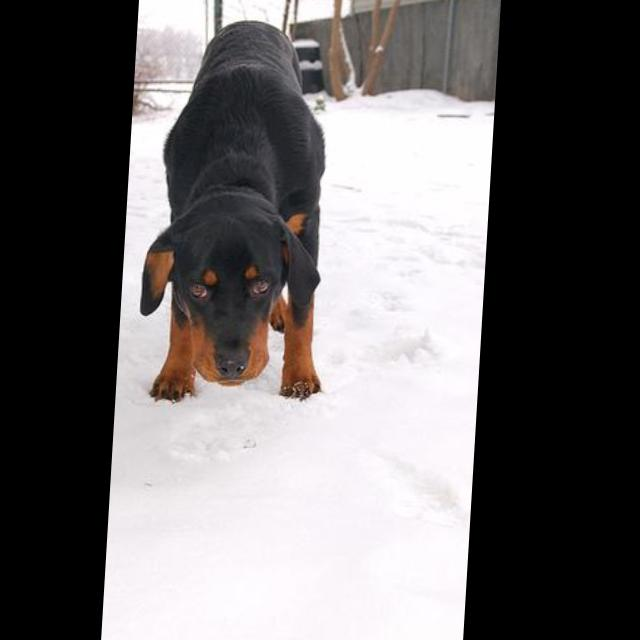rottweiler: (141, 20, 346, 404)
